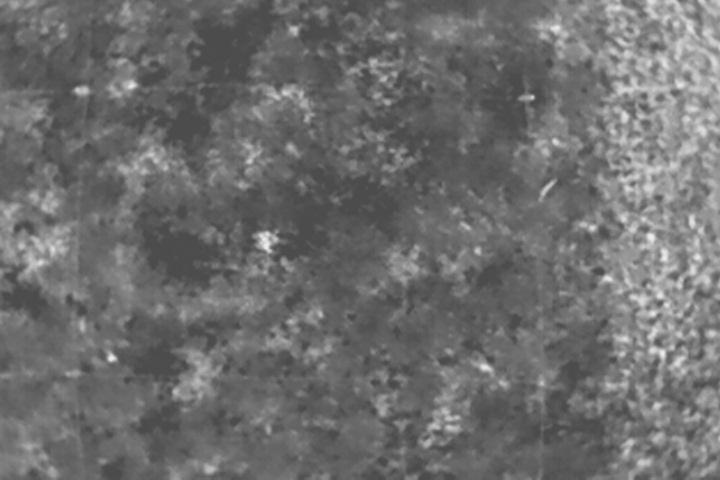landmine: (251, 227, 281, 255)
